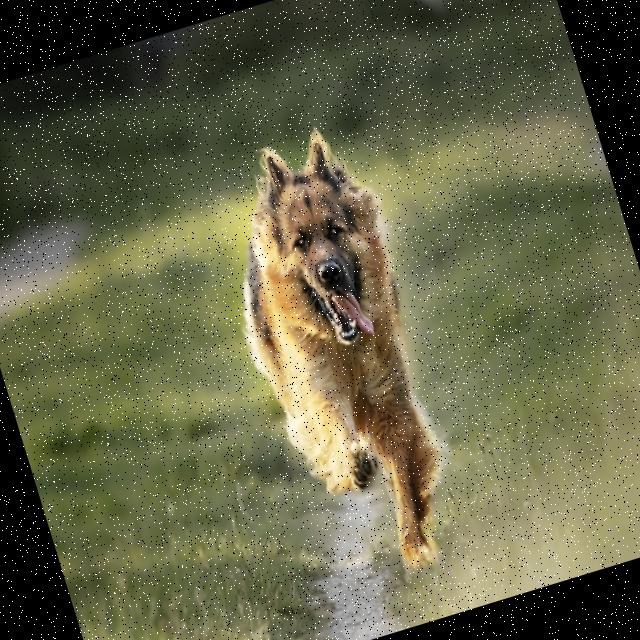Dog: (190, 118, 482, 598)
